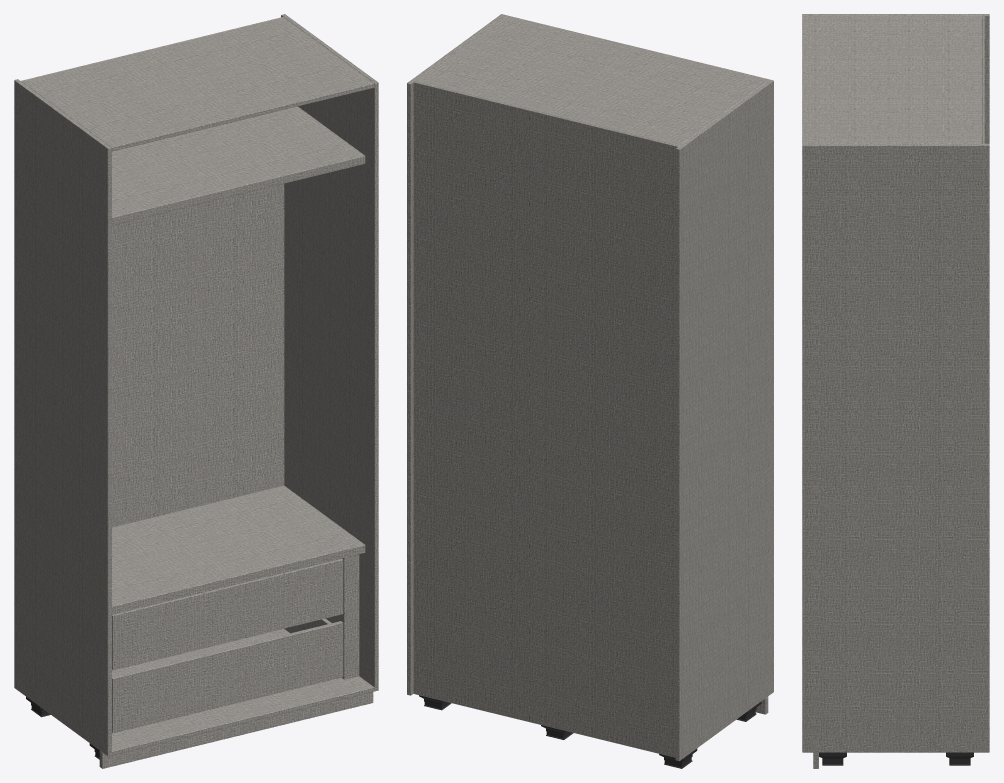
File: cbib12163.gltf
The picture shows the model from 3 angles, left to right: view 1: azimuth 30°, elevation 25°; view 2: azimuth 150°, elevation 25°; view 3: azimuth 270°, elevation 25°; orthographic projection.
Parts seen in each view (by area): view 1: CBIB12163; view 2: CBIB12163; view 3: CBIB12163.
Part boxes in pixels (box(x1,y1,x2,y2)): CBIB12163: box(14, 14, 378, 768); CBIB12163: box(407, 14, 773, 768); CBIB12163: box(802, 14, 989, 768).
Bounding box in the file's own units: 1 × 2.2 × 0.6.
3 materials, 2 textured.
